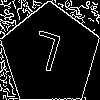L: (25, 30, 64, 81)
